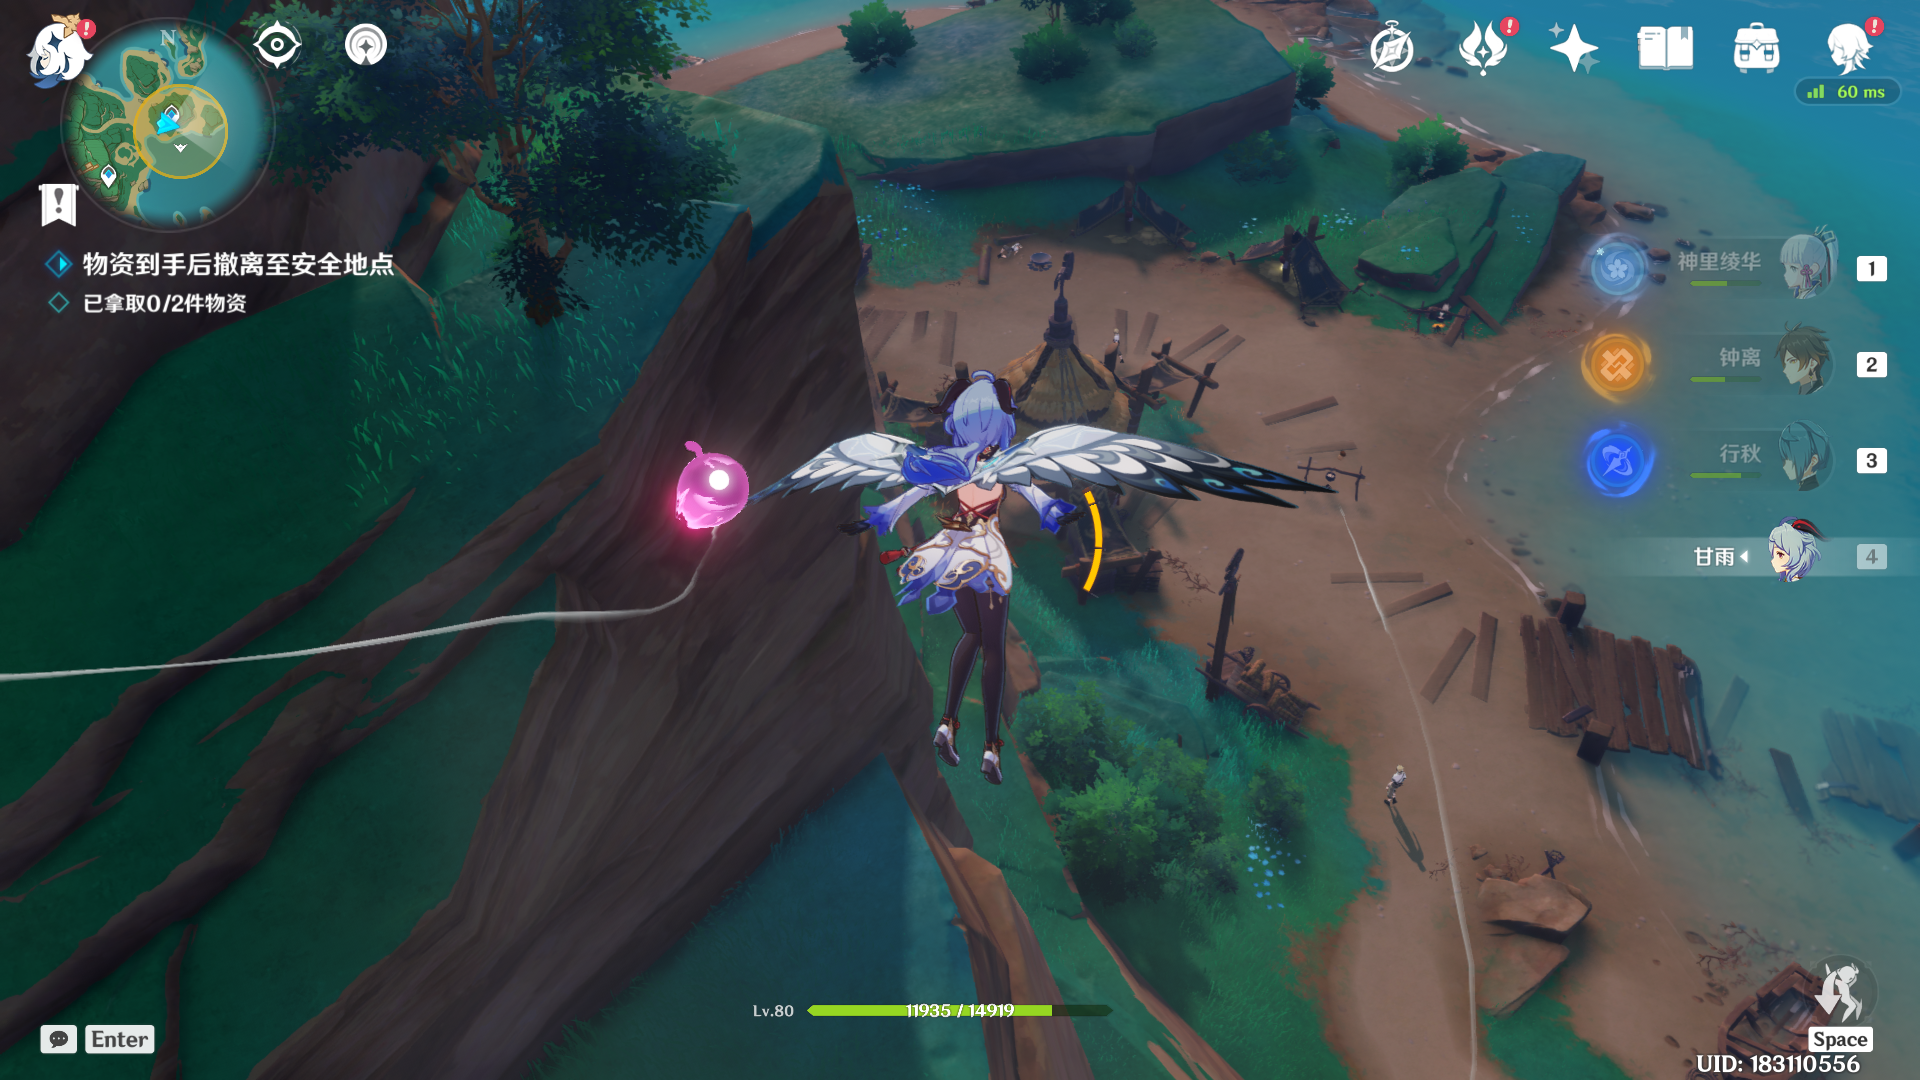character: (781, 316, 1149, 804)
